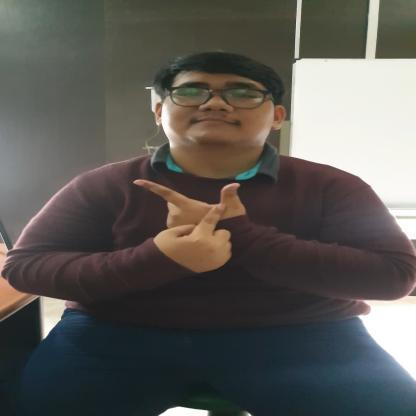Y: (126, 178, 254, 276)
